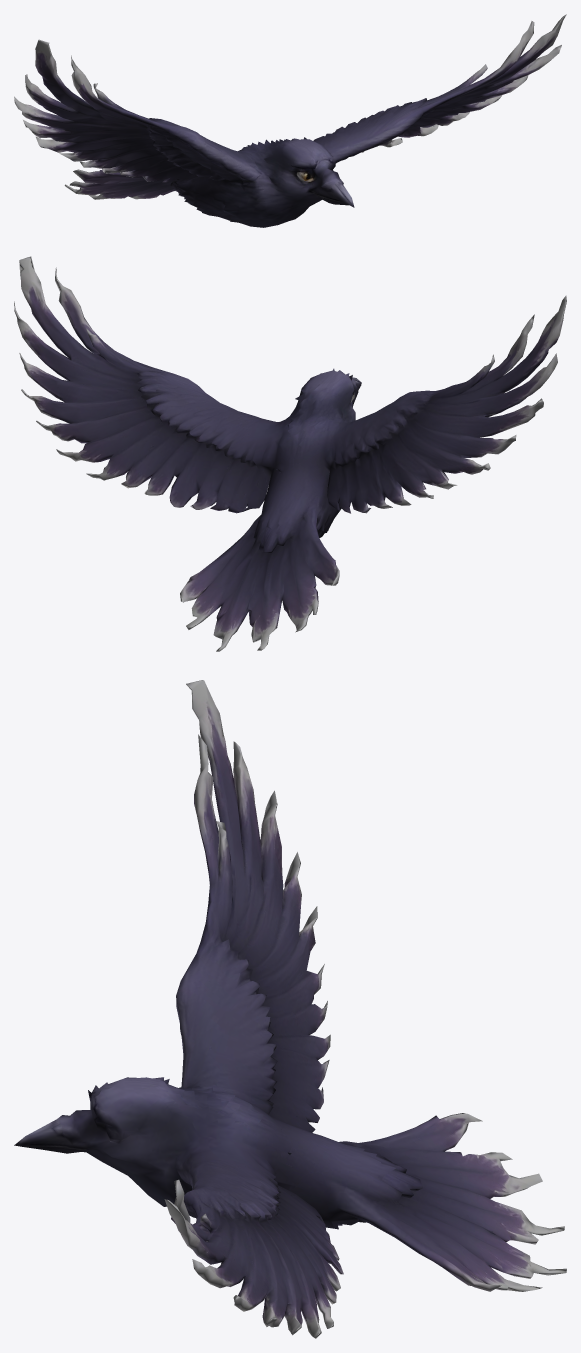
File: yingya-fly.glb
3 views of the same model, one above another, from view 1: azimuth 30°, elevation 25°; view 2: azimuth 150°, elevation 25°; view 3: azimuth 270°, elevation 25° (orthographic). The views are drawn at different scales.
Visible parts, largest first — view 1: tripo_node_3c6c4f27-77c2-4190-a65a-f8942e434a7e; view 2: tripo_node_3c6c4f27-77c2-4190-a65a-f8942e434a7e; view 3: tripo_node_3c6c4f27-77c2-4190-a65a-f8942e434a7e.
Boxes of the visible parts, x1,y1,x2,y2 form: tripo_node_3c6c4f27-77c2-4190-a65a-f8942e434a7e: (14,14,566,227); tripo_node_3c6c4f27-77c2-4190-a65a-f8942e434a7e: (14,256,566,651); tripo_node_3c6c4f27-77c2-4190-a65a-f8942e434a7e: (14,680,566,1338).
Bounding box in the file's own units: 6 × 3.2 × 3.63.
1 material, 1 textured.
